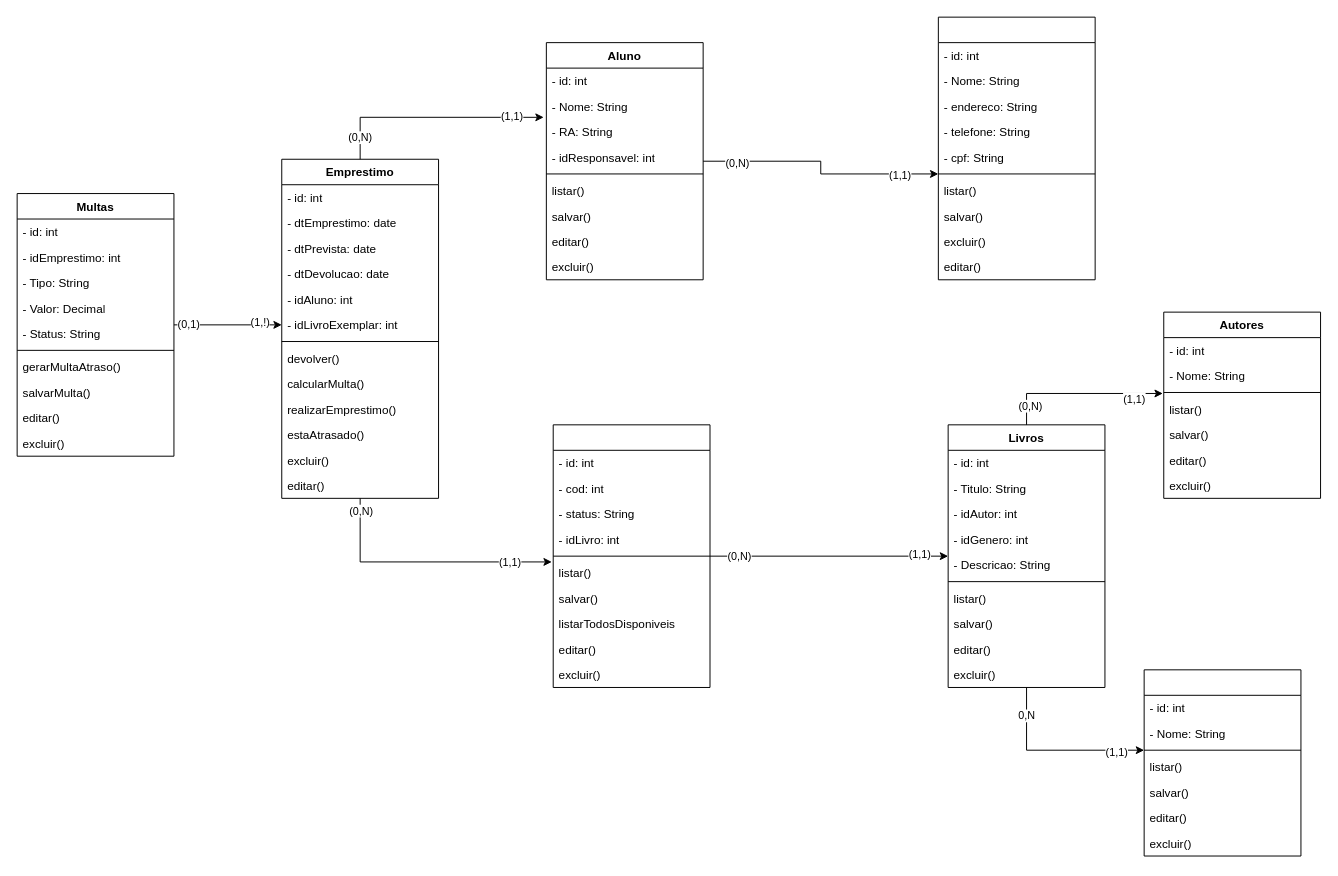
Some shapes in this 1338 by 876 pixel diagram are drawn without their labels. The shapes that lost their labels are listed below. From the top down, each one's box as (x1, y1, x2, y2) in pixels, then its label:
(937, 16, 1095, 280): Responsaveis
(552, 424, 710, 687): Livro_exemplares
(1143, 669, 1301, 856): Generos
